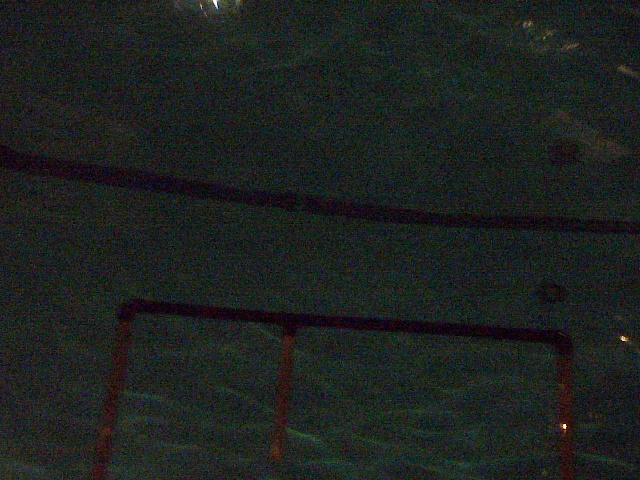Gate: (86, 316, 134, 480), (265, 333, 299, 460), (550, 352, 576, 478)
